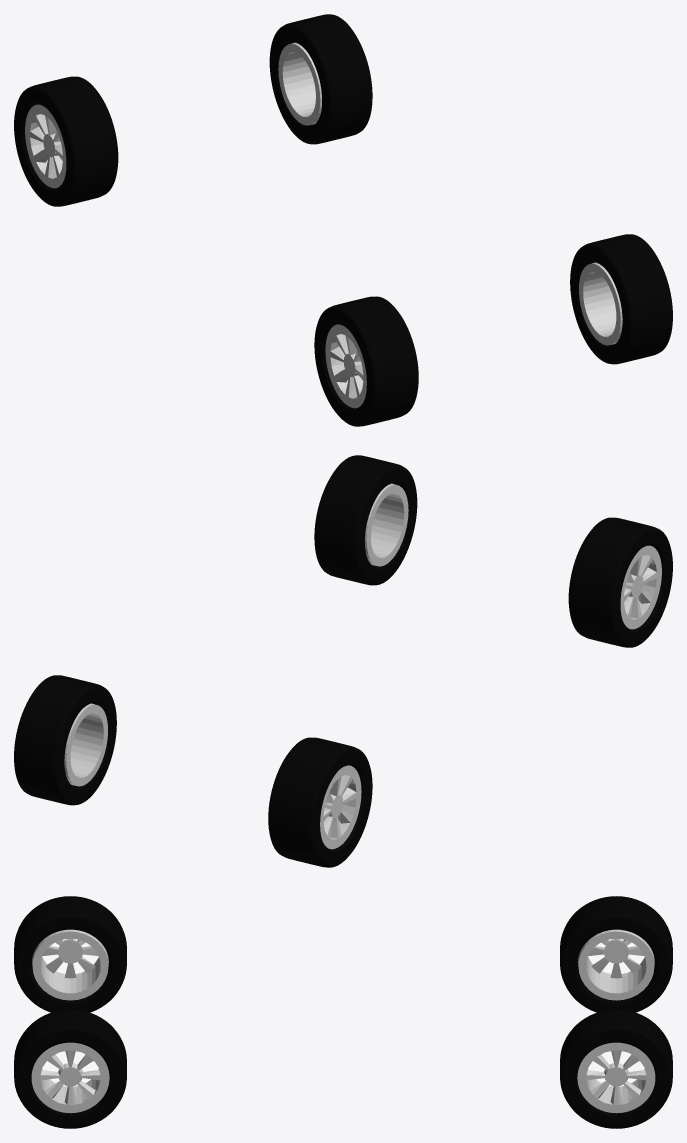
The picture shows the model from 3 angles, top to bottom: view 1: azimuth 30°, elevation 25°; view 2: azimuth 150°, elevation 25°; view 3: azimuth 270°, elevation 25°; orthographic projection. The views are drawn at different scales.
Visible parts, largest first — view 1: kola.001; view 2: kola.001; view 3: kola.001.
Part boxes in pixels (x1,y1,x2,y2): kola.001: (14, 14, 672, 426); kola.001: (14, 455, 672, 867); kola.001: (14, 896, 672, 1128).
Bounding box in the file's own units: 1.6 × 0.576 × 3.36.
1 material, 1 textured.
